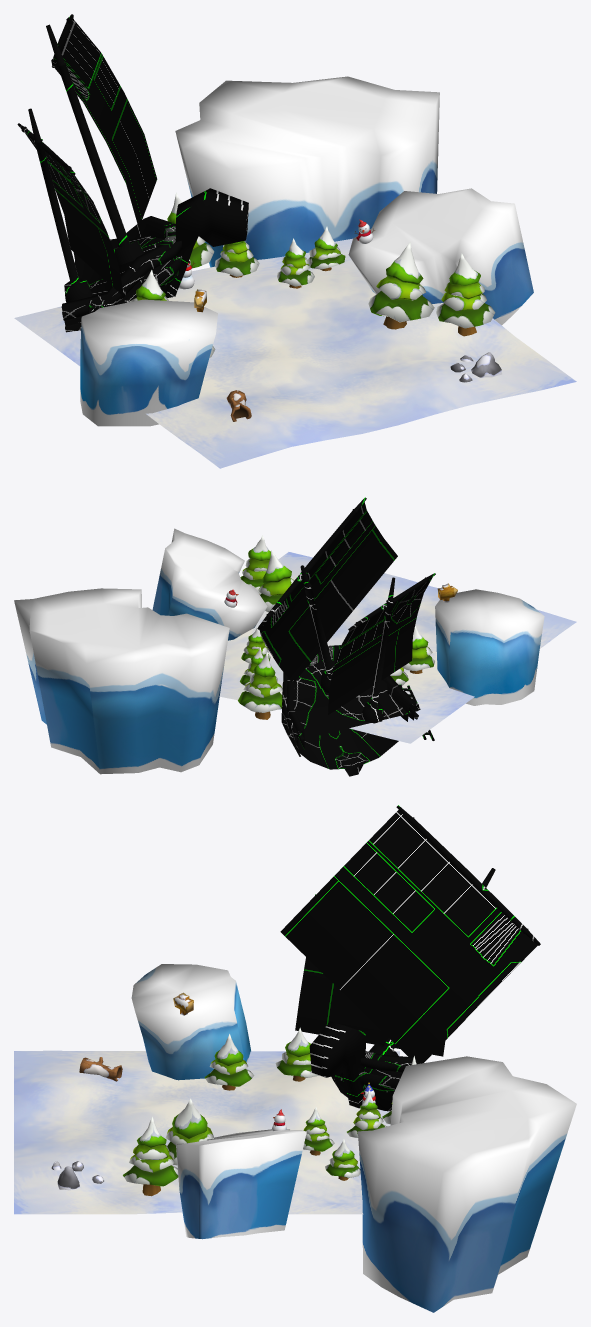
File: IceCamera3.FBX
3 views of the same model, one above another, from view 1: azimuth 30°, elevation 25°; view 2: azimuth 150°, elevation 25°; view 3: azimuth 270°, elevation 25° (orthographic). The views are drawn at different scales.
Visible parts, largest first — view 1: tereno1, Iceberg008, Iceberg010, Iceberg009, ferry007, ferry005, ferry006, Object029, Object027, Object028, Object026, Object030 (+1 smaller); view 2: Iceberg008, ferry007, Iceberg010, tereno1, ferry005, Iceberg009, ferry006, Object032, Object029, Object027, Object031, Object026; view 3: Iceberg008, tereno1, ferry007, Iceberg009, Iceberg010, ferry005, ferry006, Object027, Object031, Object029, Object033, Object026 (+2 smaller).
Boxes of the visible parts, bbox=[...] form: tereno1: bbox=[14, 238, 576, 468]; Iceberg008: bbox=[175, 76, 439, 267]; Iceberg010: bbox=[80, 299, 217, 426]; Iceberg009: bbox=[348, 188, 533, 325]; ferry007: bbox=[46, 14, 157, 265]; ferry005: bbox=[61, 188, 248, 332]; ferry006: bbox=[17, 108, 123, 302]; Object029: bbox=[368, 242, 434, 329]; Object027: bbox=[436, 253, 495, 336]; Object028: bbox=[215, 241, 259, 277]; Object026: bbox=[277, 238, 314, 288]; Object030: bbox=[308, 226, 345, 271]; Iceberg008: bbox=[14, 588, 229, 774]; ferry007: bbox=[257, 497, 397, 692]; Iceberg010: bbox=[435, 589, 544, 705]; tereno1: bbox=[219, 552, 576, 743]; ferry005: bbox=[281, 645, 434, 776]; Iceberg009: bbox=[152, 528, 267, 640]; ferry006: bbox=[328, 573, 435, 723]; Object032: bbox=[238, 652, 282, 719]; Object029: bbox=[258, 550, 294, 612]; Object027: bbox=[240, 535, 270, 594]; Object031: bbox=[403, 626, 434, 673]; Object026: bbox=[241, 626, 270, 663]; Iceberg008: bbox=[358, 1056, 576, 1312]; tereno1: bbox=[14, 1050, 399, 1214]; ferry007: bbox=[280, 805, 540, 1063]; Iceberg009: bbox=[176, 1129, 306, 1239]; Iceberg010: bbox=[131, 964, 250, 1080]; ferry005: bbox=[309, 1021, 420, 1111]; ferry006: bbox=[295, 894, 445, 1056]; Object027: bbox=[123, 1116, 178, 1196]; Object031: bbox=[204, 1034, 254, 1090]; Object029: bbox=[165, 1098, 213, 1165]; Object033: bbox=[275, 1027, 318, 1081]; Object026: bbox=[303, 1107, 334, 1155].
Bounding box in the file's own units: 697 × 477 × 729.
